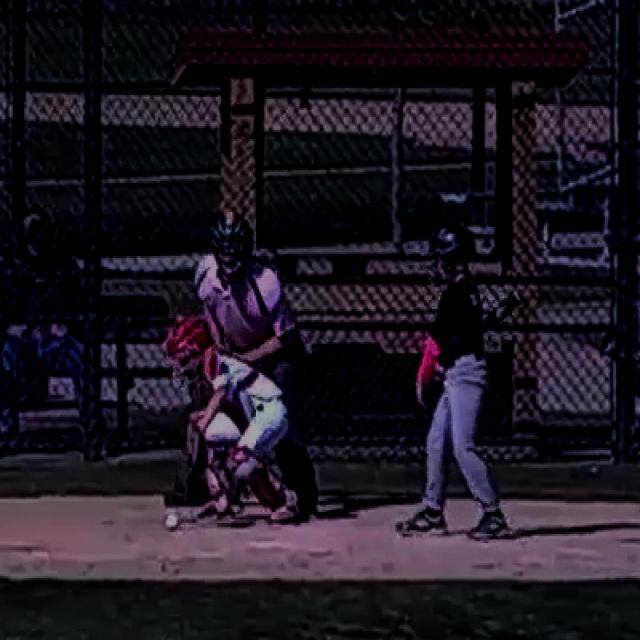baseball: (164, 514, 180, 528)
